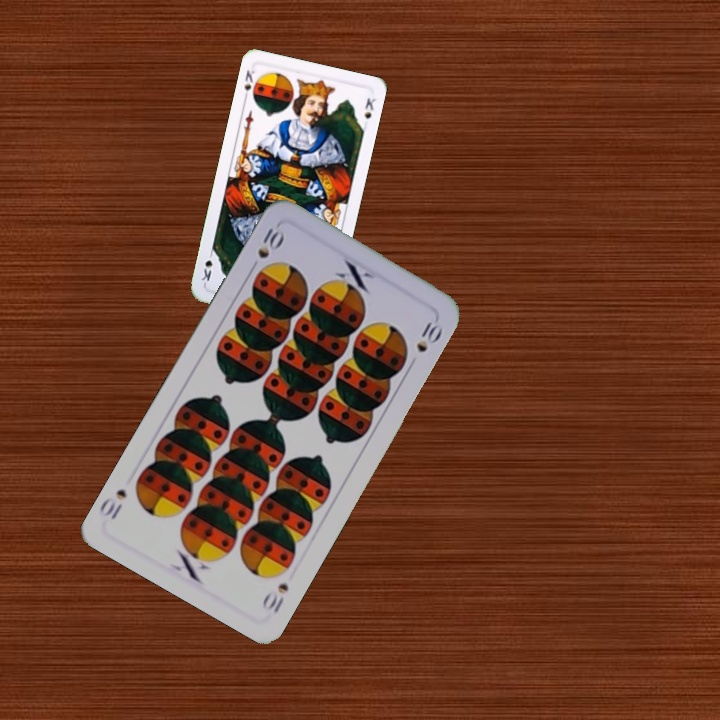S10: (245, 221, 287, 275), (258, 579, 291, 616)
SK: (240, 66, 257, 103)
